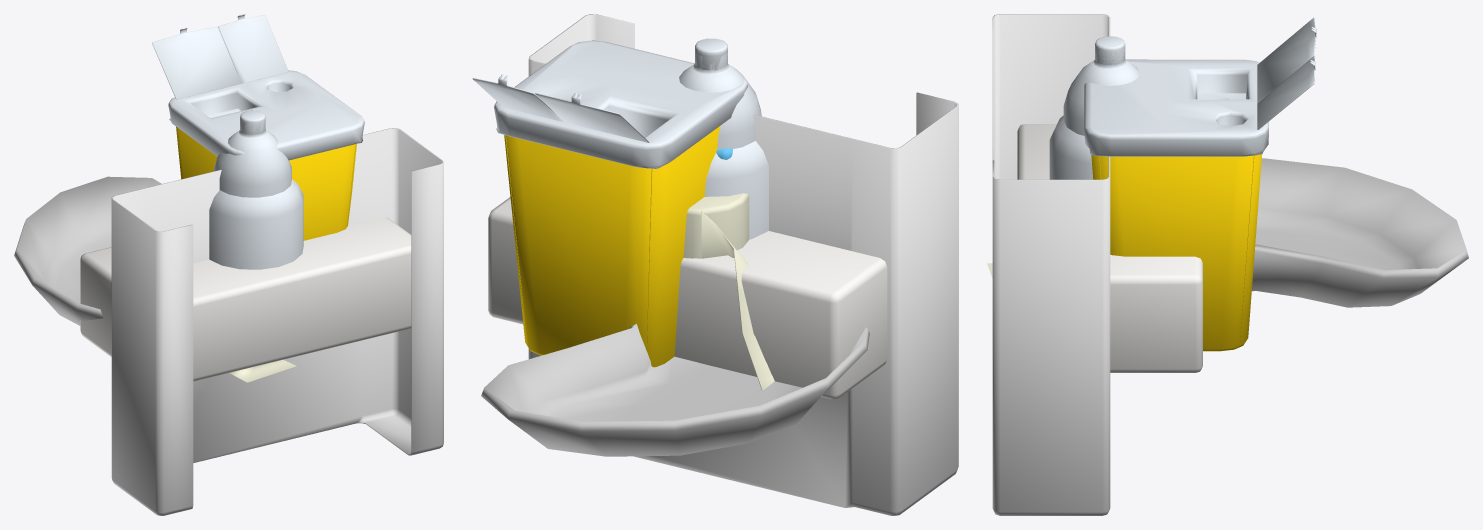
File: Medical_Supplies.fbx
3 renders of one model, left to right at view 1: azimuth 30°, elevation 25°; view 2: azimuth 150°, elevation 25°; view 3: azimuth 270°, elevation 25°, orthographic. The views are drawn at different scales.
Parts seen in each view (by area): view 1: GlovesBoxSupport, GlovesBox, SharpContainer, Kidney, BottleSuero, BottleAlcohol, Bandages; view 2: GlovesBoxSupport, SharpContainer, GlovesBox, Kidney, Bandages, BottleAlcohol, BottleSuero, BottleSoap; view 3: GlovesBoxSupport, SharpContainer, Kidney, GlovesBox, BottleAlcohol, BottleSuero.
Part boxes in pixels (<box>): GlovesBoxSupport: <box>111,128,443,515</box>; GlovesBox: <box>80,217,411,381</box>; SharpContainer: <box>152,14,364,240</box>; Kidney: <box>14,176,161,325</box>; BottleSuero: <box>209,179,303,269</box>; BottleAlcohol: <box>214,110,291,197</box>; Bandages: <box>229,359,296,382</box>; GlovesBoxSupport: <box>528,14,958,515</box>; SharpContainer: <box>472,40,748,367</box>; GlovesBox: <box>488,197,887,399</box>; Kidney: <box>481,323,869,456</box>; Bandages: <box>683,193,774,390</box>; BottleAlcohol: <box>679,38,761,149</box>; BottleSuero: <box>704,141,768,239</box>; BottleSoap: <box>695,49,755,149</box>; GlovesBoxSupport: <box>992,14,1110,515</box>; SharpContainer: <box>1084,17,1316,351</box>; Kidney: <box>1252,158,1468,307</box>; GlovesBox: <box>1017,124,1202,372</box>; BottleAlcohol: <box>1063,36,1139,135</box>; BottleSuero: <box>1049,115,1093,179</box>.
Size of the model in its own units: 0.2645 by 0.298 by 0.3114.
